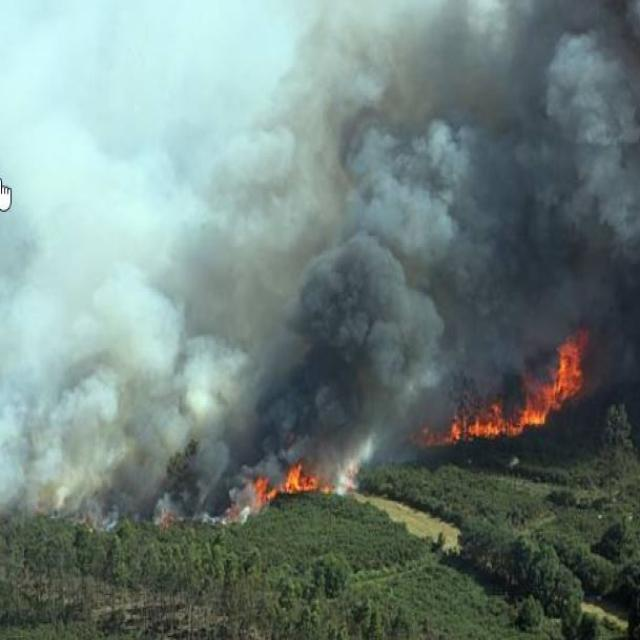Fire: (429, 398, 552, 447), (226, 464, 338, 506)
Smoke: (3, 0, 640, 497)
